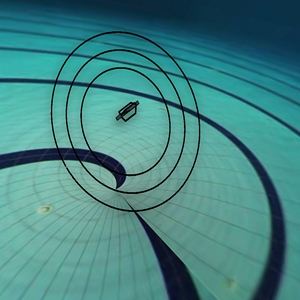circle: (41, 22, 210, 225)
submarine: (107, 91, 145, 134)
